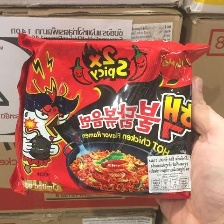snack: (3, 26, 217, 205)
